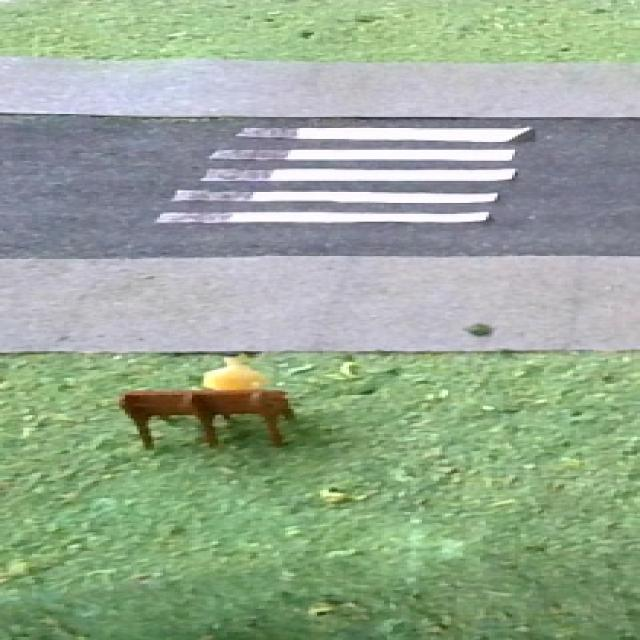person: (192, 343, 276, 391)
